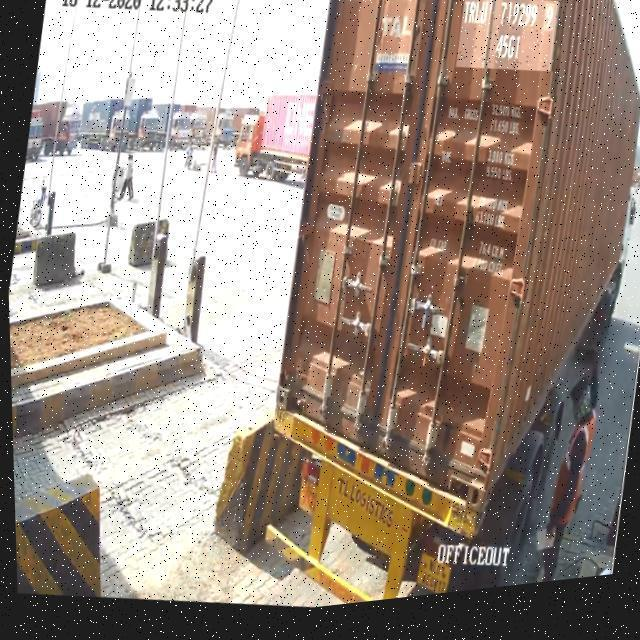container_number_h: (454, 0, 564, 93)
